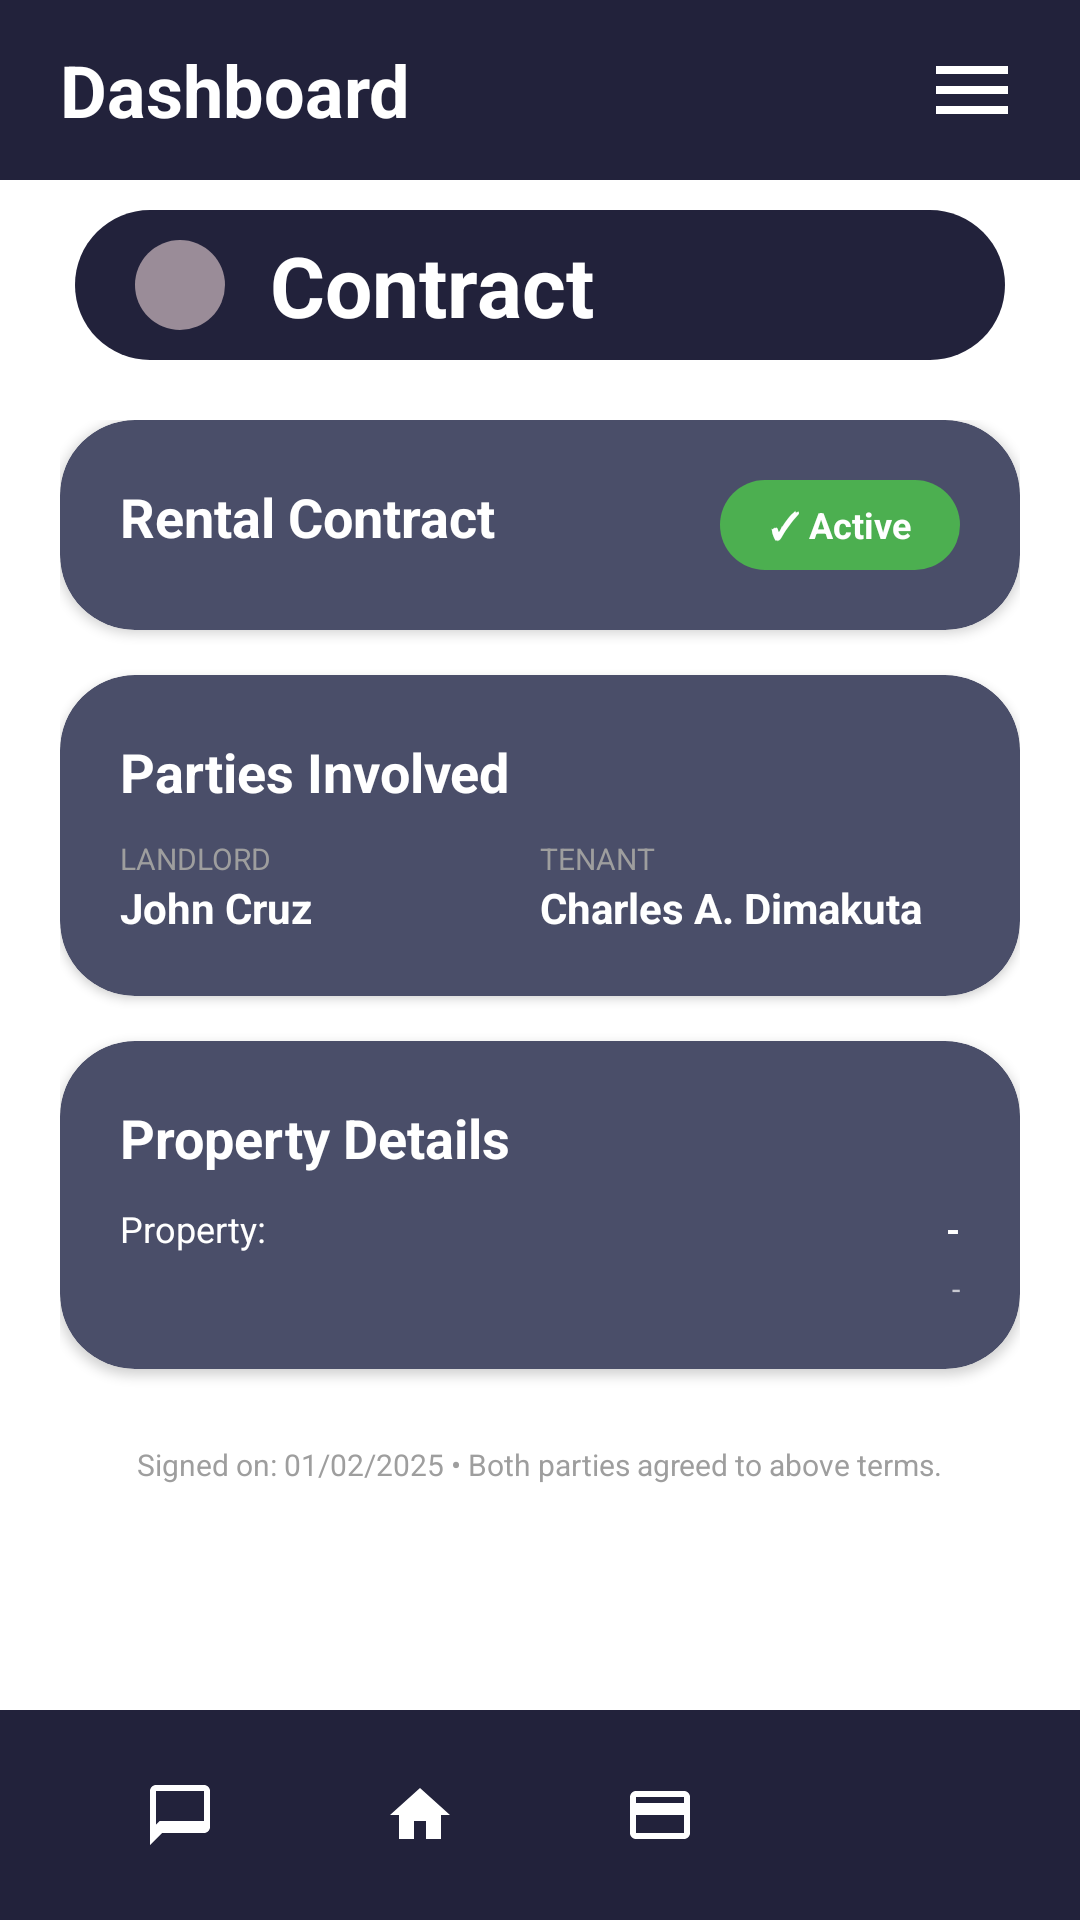

Icons on this 1080px x 1920px Android screen, each with the point to tap as point (x, y):
Home: point (420, 1813)
Menu: point (972, 90)
Messages: point (180, 1815)
Payments: point (660, 1815)
